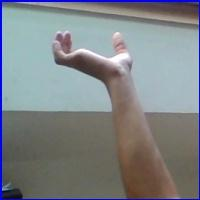B: (49, 24, 137, 82)
